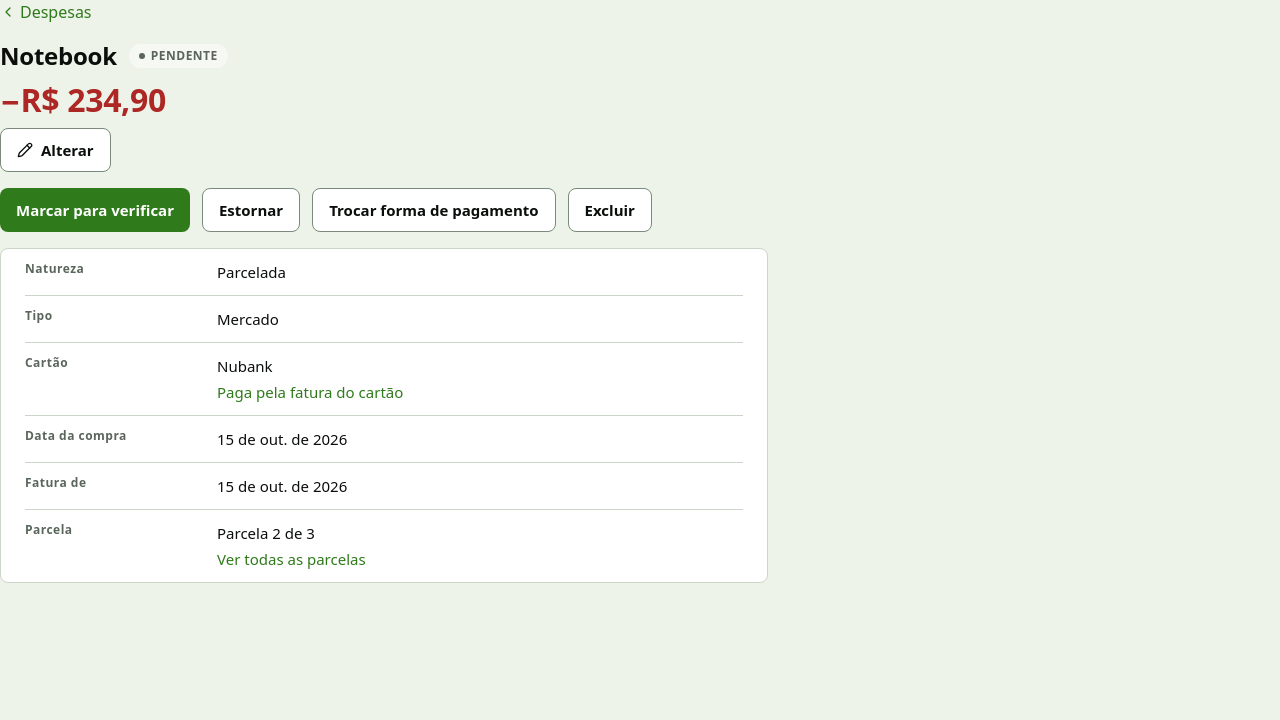
Test case: ExpenseDetailPage actions (spec 0012) › deletes an installment after showing the cascade and goes back to the list
The width and height of the screenshot is (1280, 720).
Click the button "Excluir": coordinates (610, 210) [568,188,652,232]
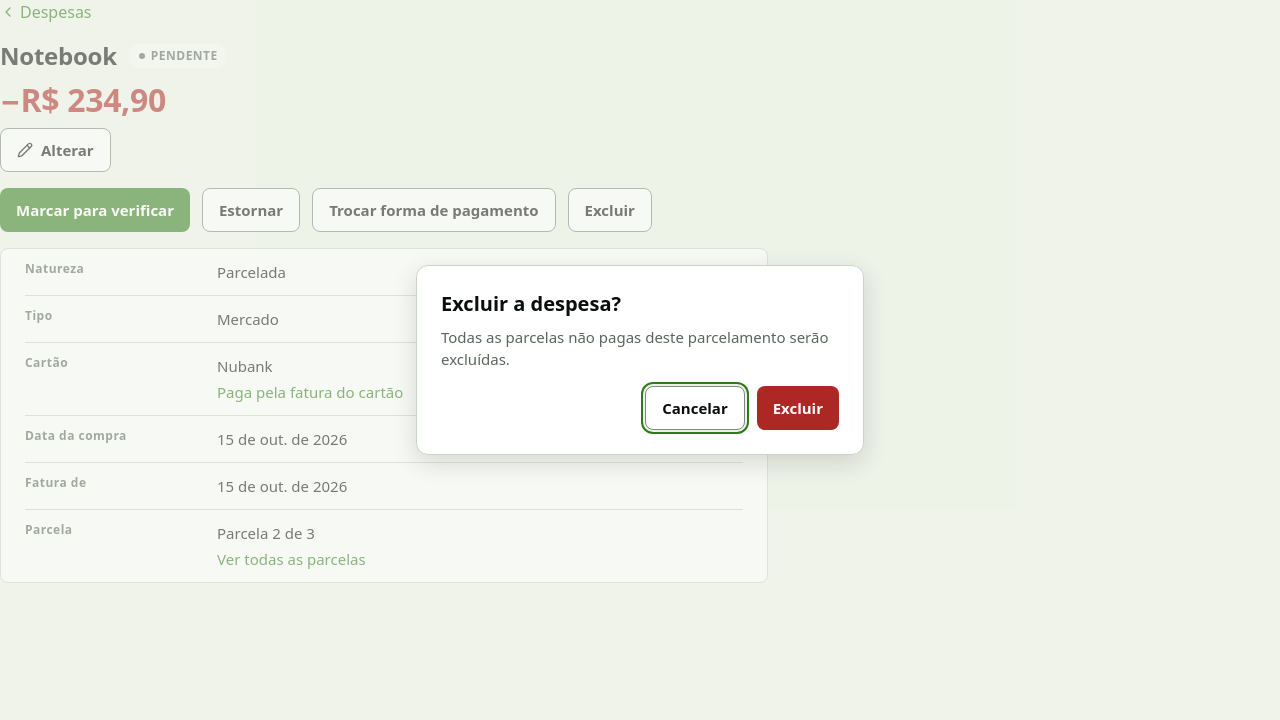
Expected: the dialog "Excluir a despesa?" shows "Todas as parcelas não pagas deste parcelamento serão excluídas.", [441,327,828,369]
Click the button "Excluir": coordinates (798, 408) [757,386,839,430]
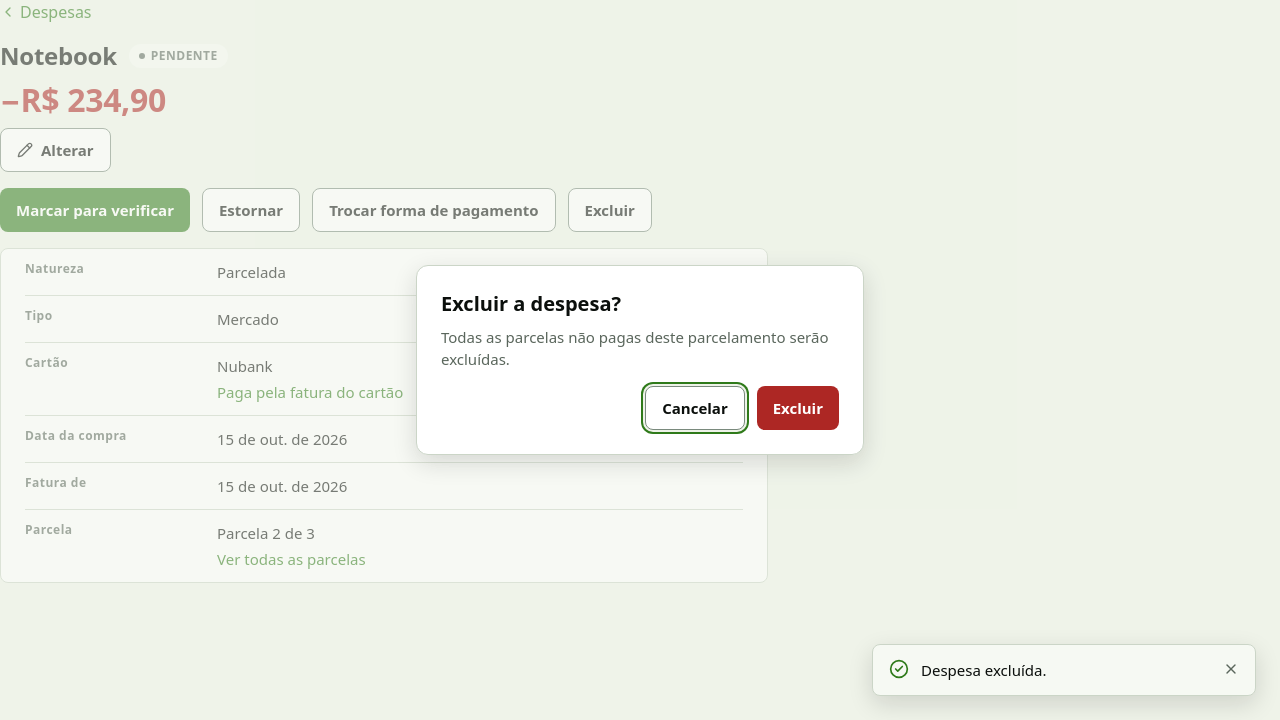
Expected: the text "Despesa excluída." is shown, [921,660,1046,680]
